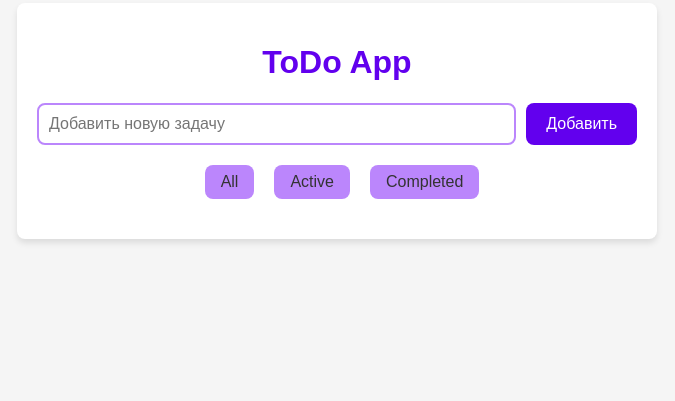
Test: App Component › фильтрует задачи по статусу
Type "Задача 1" into the field with placeholder "Добавить новую задачу" at (277, 124), box [37,103,516,145]
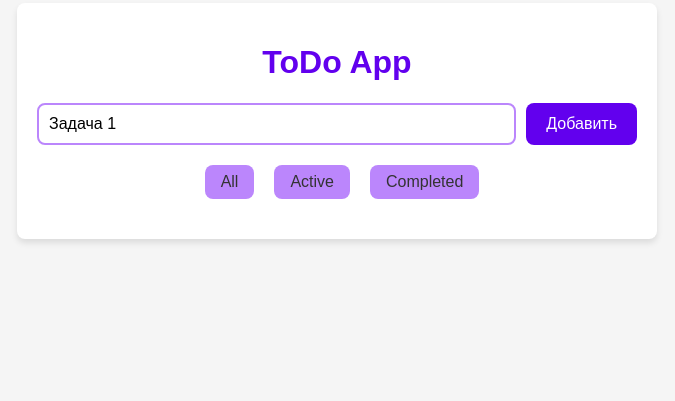
Click the button "Добавить" at (582, 124), box [526,103,637,145]
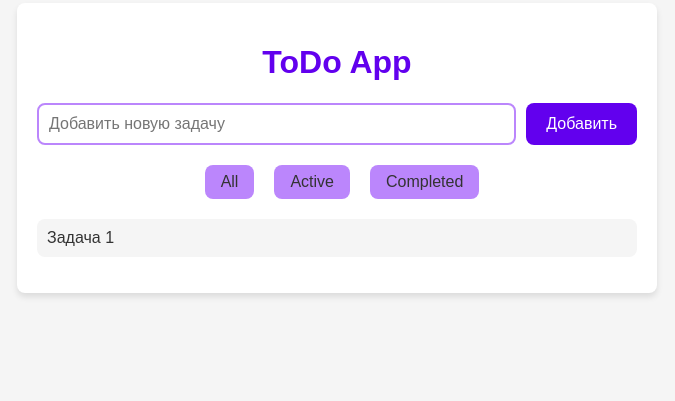
Type "Задача 2" into the field with placeholder "Добавить новую задачу" at (277, 124), box [37,103,516,145]
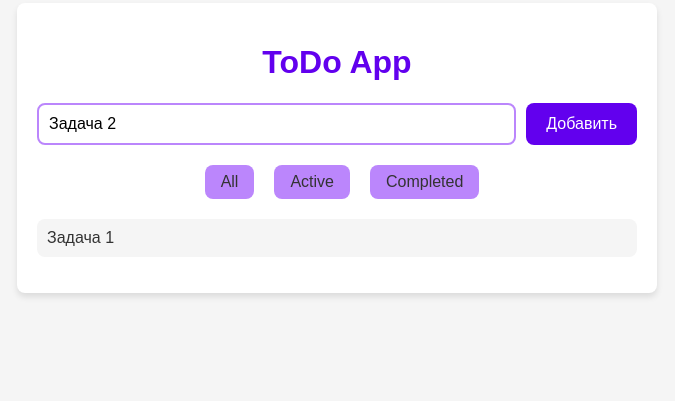
Click the button "Добавить" at (582, 124), box [526,103,637,145]
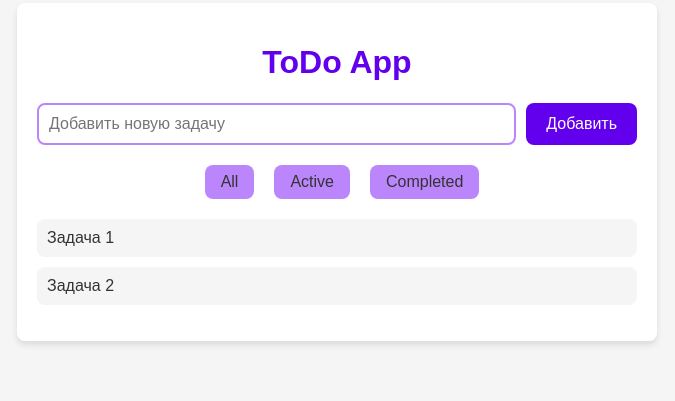
Click the list item "Задача 1" at (337, 238), box [37,219,637,257]
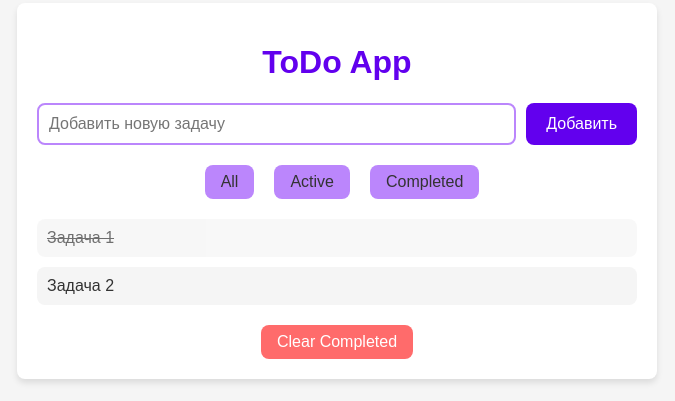
Click the button "Active" at (312, 182), box [274,165,350,199]
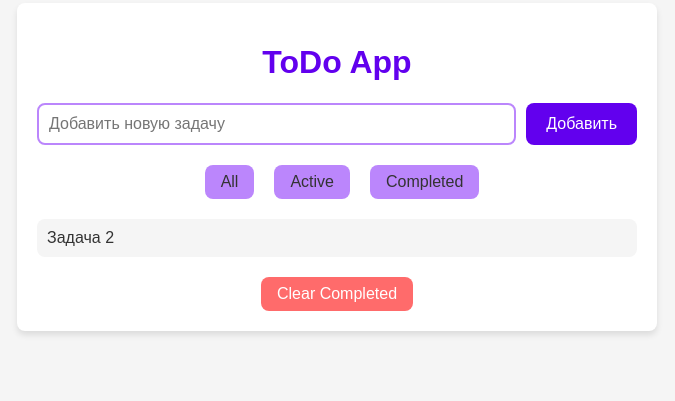
Check: the list item "Задача 2" is shown, box [37,219,637,257]
Check: the list item "Задача 1" is gone
